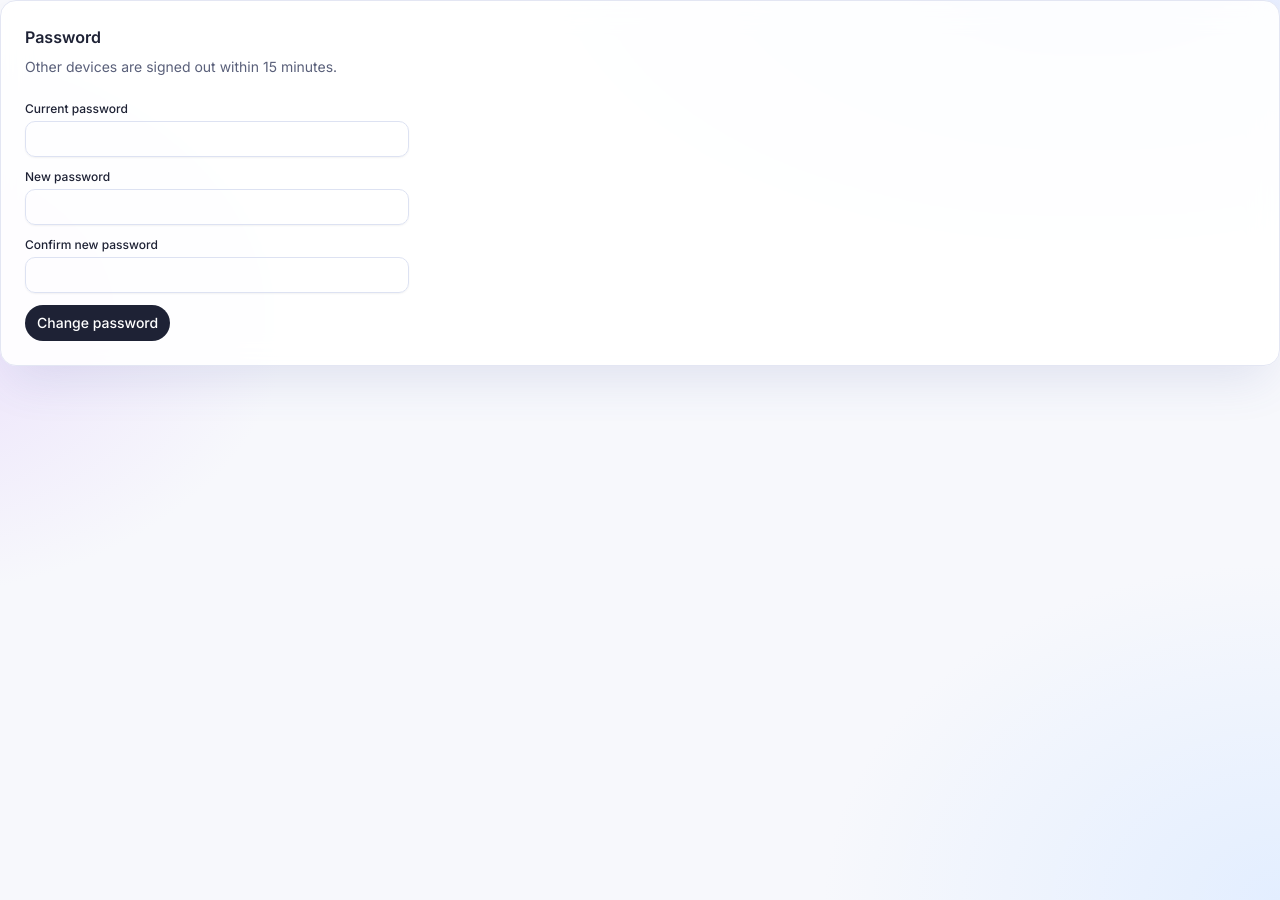
it: PasswordCard › validates locally before sending (short)
Type "old-password-1" into the password field labelled "Current password".
click(217, 139); type("old-password-1")  # box [25,121,409,157]
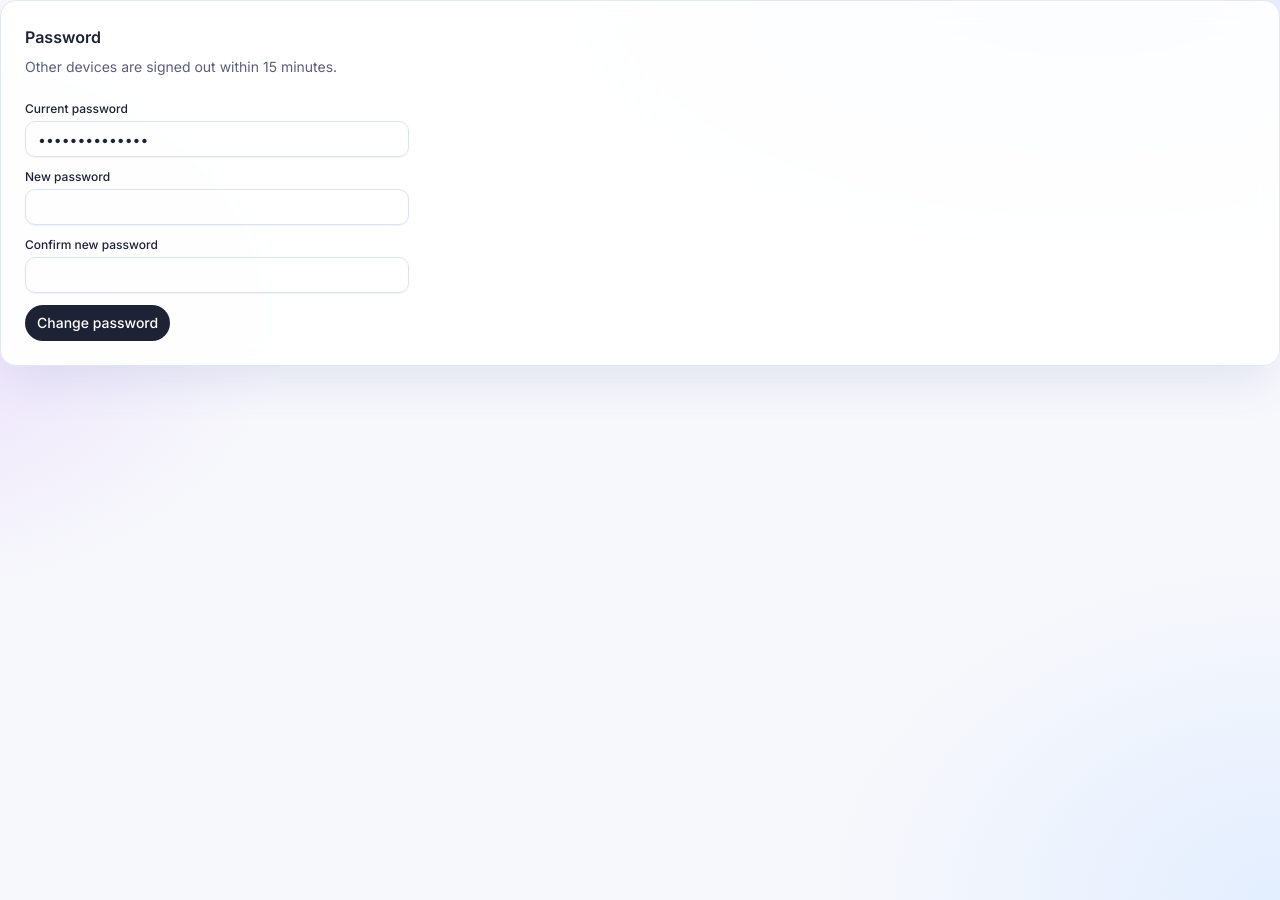
Type "short" into the password field labelled "New password".
click(217, 207); type("short")  # box [25,189,409,225]
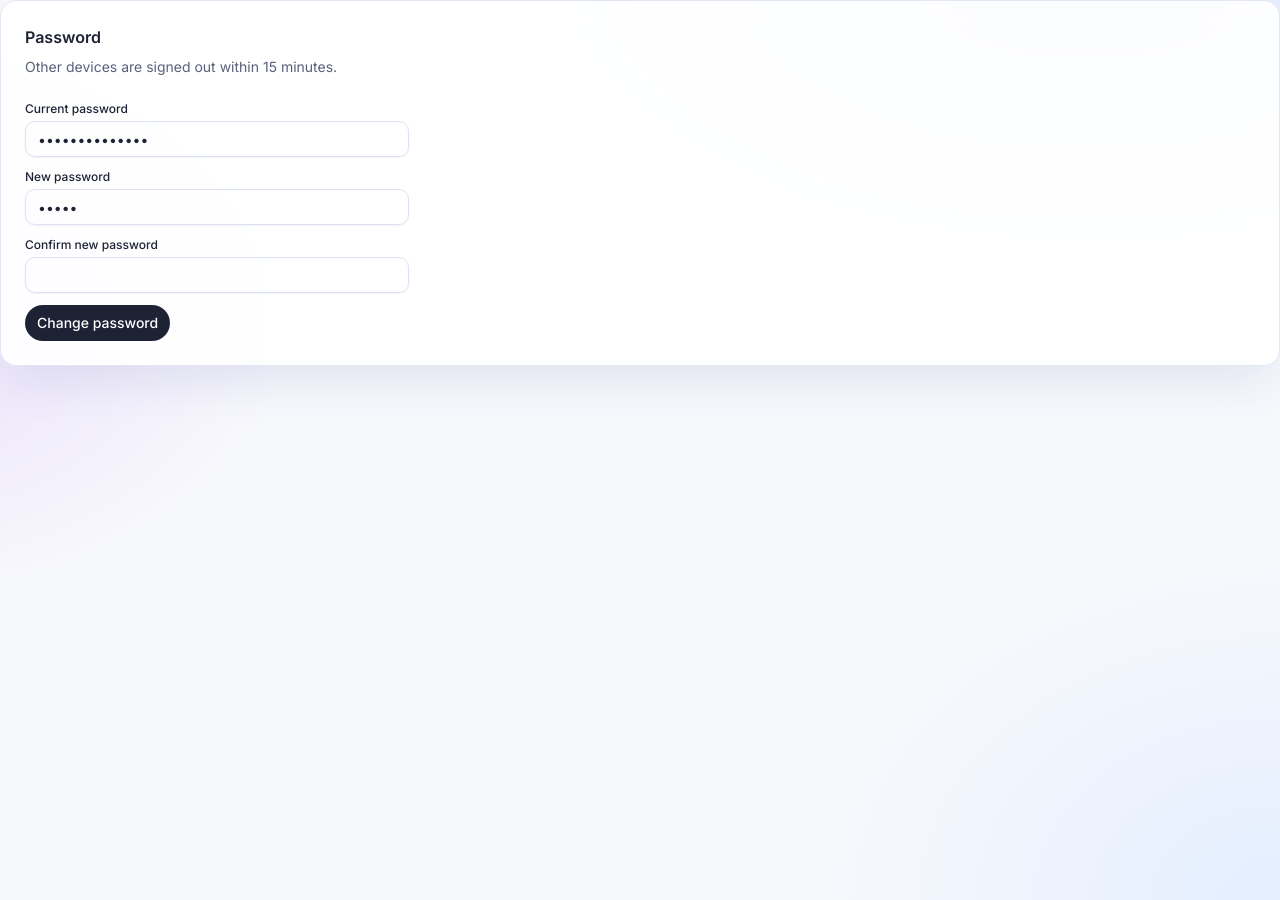
Type "short" into the password field labelled "Confirm new password".
click(217, 275); type("short")  # box [25,257,409,293]
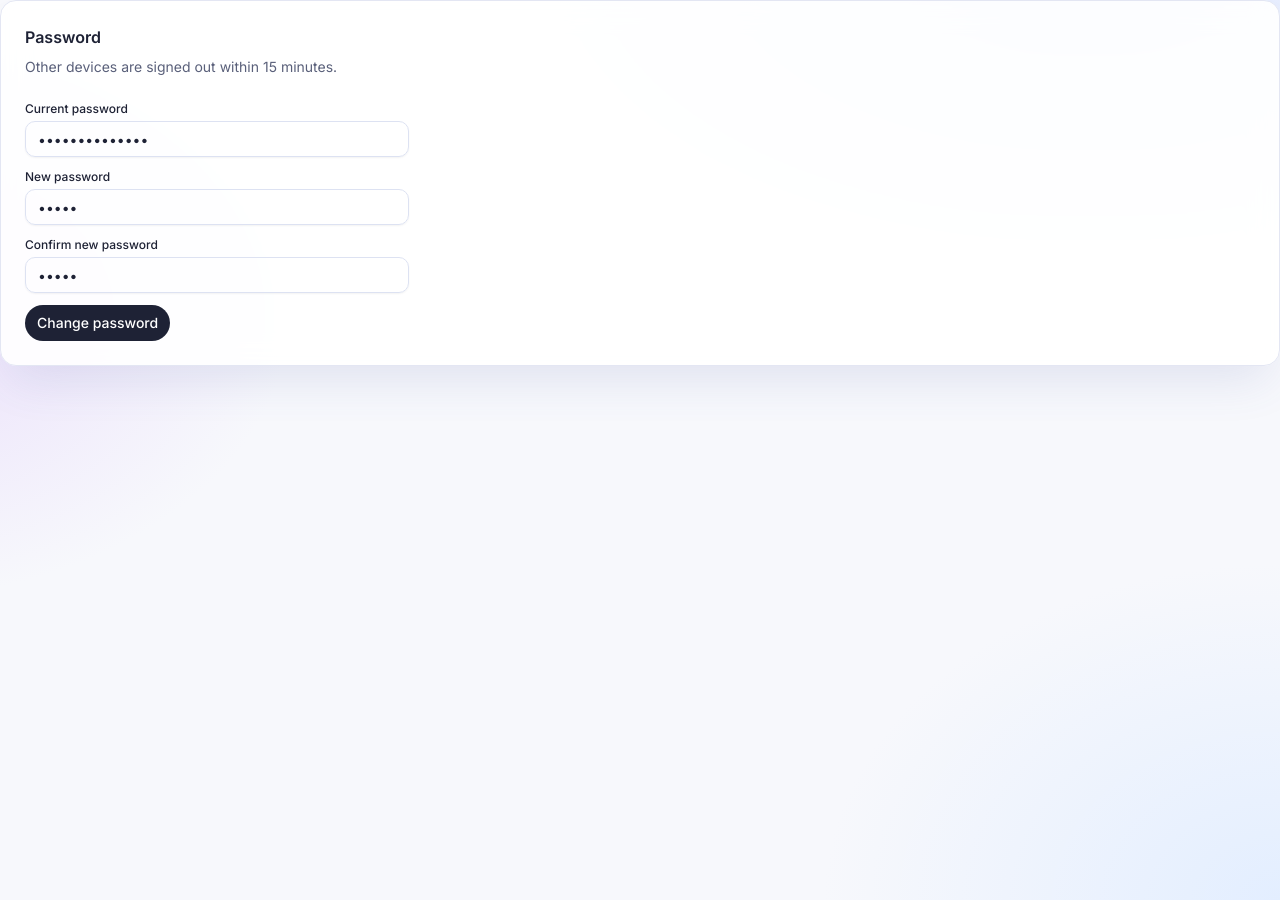
Click the button "Change password".
click(98, 323)  # box [25,305,170,341]
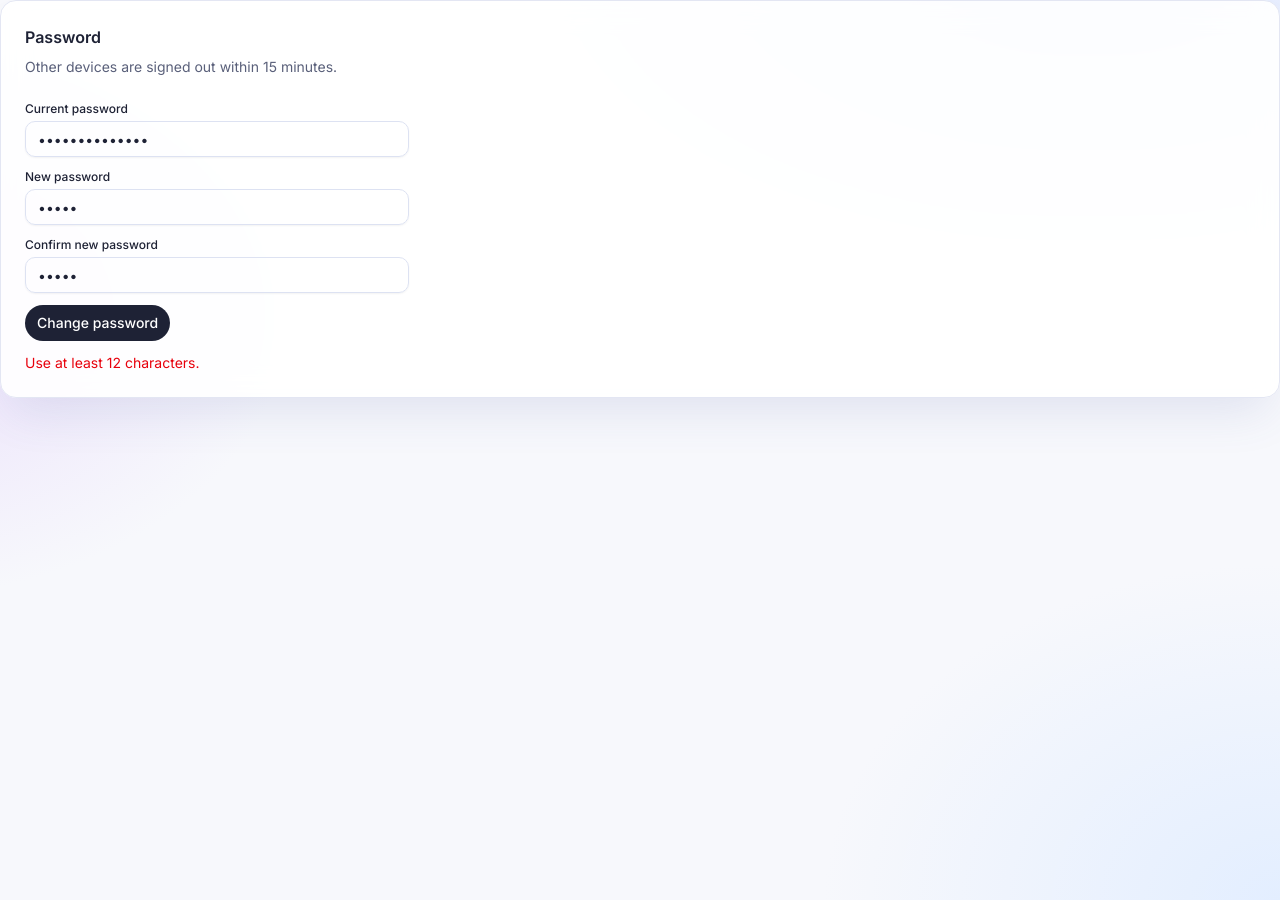
Result: the message reads "Use at least 12 characters." at [25,354,200,371]
